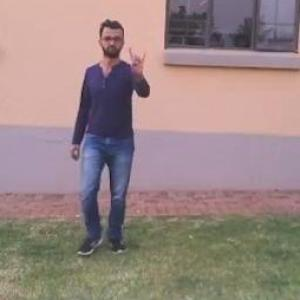takeoff-hand: (120, 41, 154, 82)
